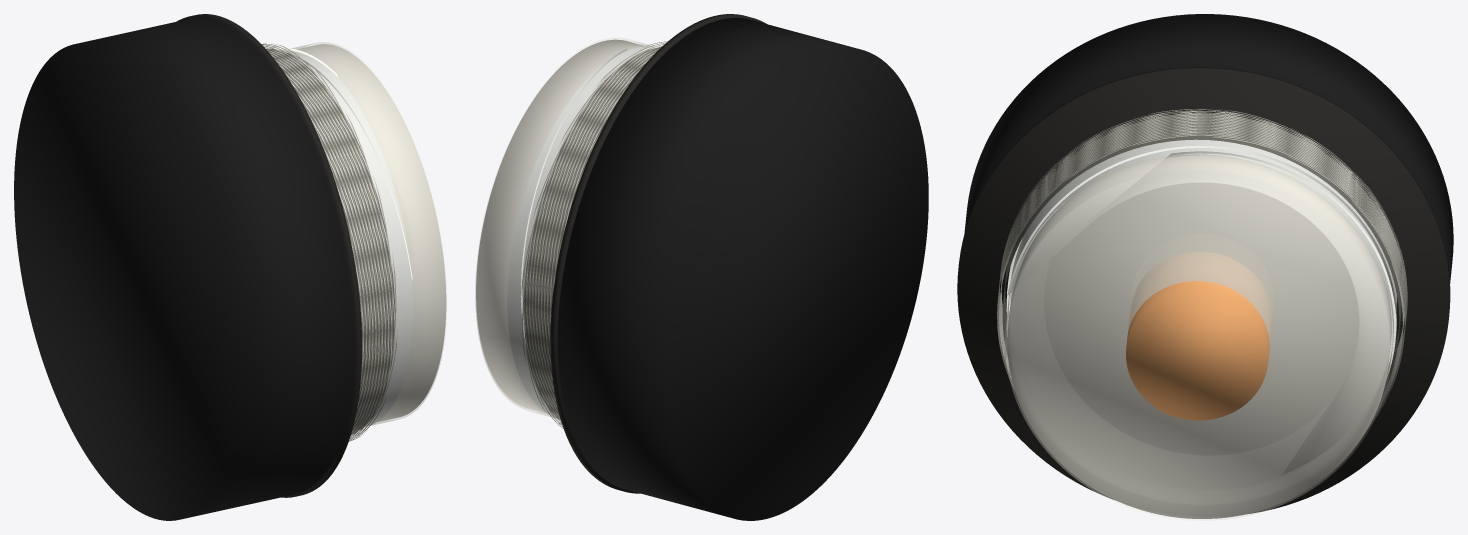
The model's file is rf-lmr1700.glb.
The picture shows the model from 3 angles, left to right: view 1: azimuth 30°, elevation 25°; view 2: azimuth 150°, elevation 25°; view 3: azimuth 270°, elevation 25°; orthographic projection.
Visible parts, largest first — view 1: matte black pvc jacket body, smooth dielectric skin, gas injected foam dielectric, braid dark diamond recess, duobond foil sleeve, jacket cut lip, braid left hand woven carrier 07, braid left hand woven carrier 08, braid left hand woven carrier 06, braid left hand woven carrier 09, braid left hand woven carrier 05, braid left hand woven carrier 04 (+5 smaller); view 2: matte black pvc jacket body, smooth dielectric skin, gas injected foam dielectric, braid dark diamond recess, duobond foil sleeve, jacket cut lip, subtle foil wrap lap, braid left hand woven carrier 02, braid left hand woven carrier 03, braid left hand woven carrier 01, braid left hand woven carrier 16, braid left hand woven carrier 15 (+1 smaller); view 3: gas injected foam dielectric, jacket cut lip, matte black pvc jacket body, solid center conductor continuous, subtle foil wrap lap, braid dark diamond recess, smooth dielectric skin, duobond foil sleeve, braid left hand woven carrier 09, braid left hand woven carrier 07, braid left hand woven carrier 10, braid left hand woven carrier 11 (+16 smaller).
Boxes of the visible parts, x1,y1,x2,y2 form: matte black pvc jacket body: [14, 17, 354, 520]; smooth dielectric skin: [291, 42, 446, 425]; gas injected foam dielectric: [297, 44, 446, 421]; braid dark diamond recess: [266, 48, 395, 434]; duobond foil sleeve: [284, 50, 412, 426]; jacket cut lip: [177, 14, 362, 497]; braid left hand woven carrier 07: [261, 43, 380, 422]; braid left hand woven carrier 08: [274, 44, 383, 427]; braid left hand woven carrier 06: [262, 44, 377, 414]; braid left hand woven carrier 09: [311, 65, 386, 431]; braid left hand woven carrier 05: [263, 45, 374, 405]; braid left hand woven carrier 04: [264, 47, 370, 393]; matte black pvc jacket body: [557, 18, 928, 520]; smooth dielectric skin: [475, 38, 654, 417]; gas injected foam dielectric: [476, 39, 644, 413]; braid dark diamond recess: [524, 47, 661, 420]; duobond foil sleeve: [507, 46, 653, 417]; jacket cut lip: [550, 14, 766, 493]; subtle foil wrap lap: [521, 46, 659, 343]; braid left hand woven carrier 02: [528, 61, 647, 428]; braid left hand woven carrier 03: [525, 56, 652, 411]; braid left hand woven carrier 01: [531, 68, 641, 426]; braid left hand woven carrier 16: [534, 78, 633, 423]; braid left hand woven carrier 15: [537, 91, 624, 419]; gas injected foam dielectric: [1007, 155, 1391, 518]; jacket cut lip: [957, 67, 1450, 514]; matte black pvc jacket body: [964, 14, 1453, 283]; solid center conductor continuous: [1126, 252, 1272, 420]; subtle foil wrap lap: [1006, 145, 1396, 473]; braid dark diamond recess: [1002, 113, 1401, 395]; smooth dielectric skin: [1005, 154, 1392, 520]; duobond foil sleeve: [1006, 139, 1396, 378]; braid left hand woven carrier 09: [997, 110, 1406, 347]; braid left hand woven carrier 07: [998, 108, 1406, 351]; braid left hand woven carrier 10: [997, 112, 1406, 393]; braid left hand woven carrier 11: [997, 113, 1406, 398].
Size of the model in its own units: 6.81 by 11.22 by 11.29.
